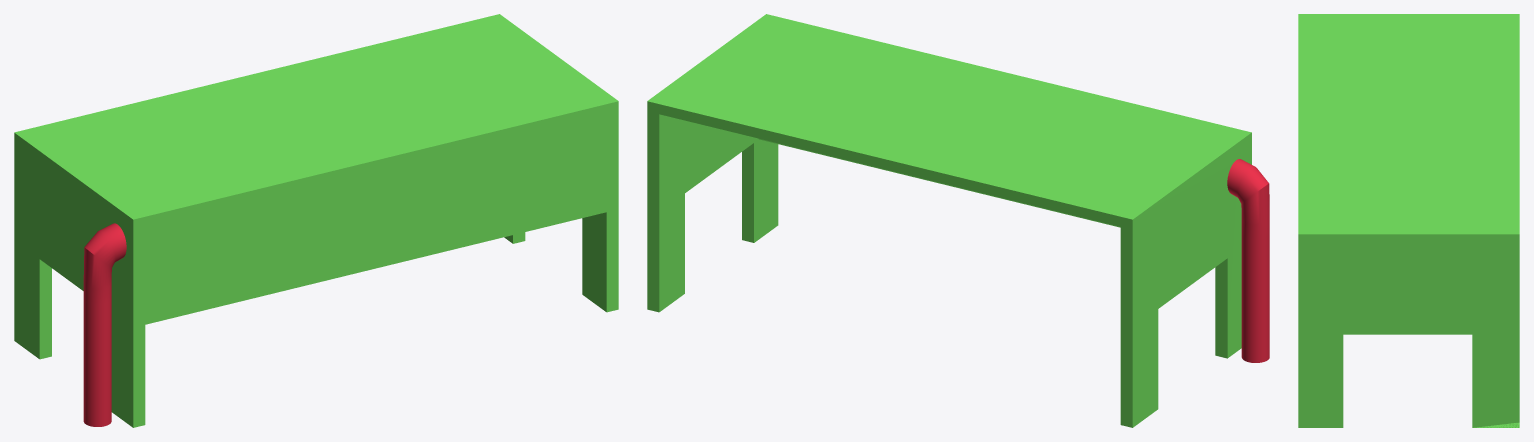
File: Mesa sala de controle.fbx
3 views of the same model, side by side, from view 1: azimuth 30°, elevation 25°; view 2: azimuth 150°, elevation 25°; view 3: azimuth 270°, elevation 25° (orthographic). The views are drawn at different scales.
Parts seen in each view (by area): view 1: Cylinder; view 2: Cylinder; view 3: Cylinder.
Part boxes in pixels (<box>): Cylinder: <box>14,14,618,427</box>; Cylinder: <box>647,14,1269,427</box>; Cylinder: <box>1298,14,1519,427</box>.
Bounding box in the file's own units: 2.13 × 0.82 × 0.85.
